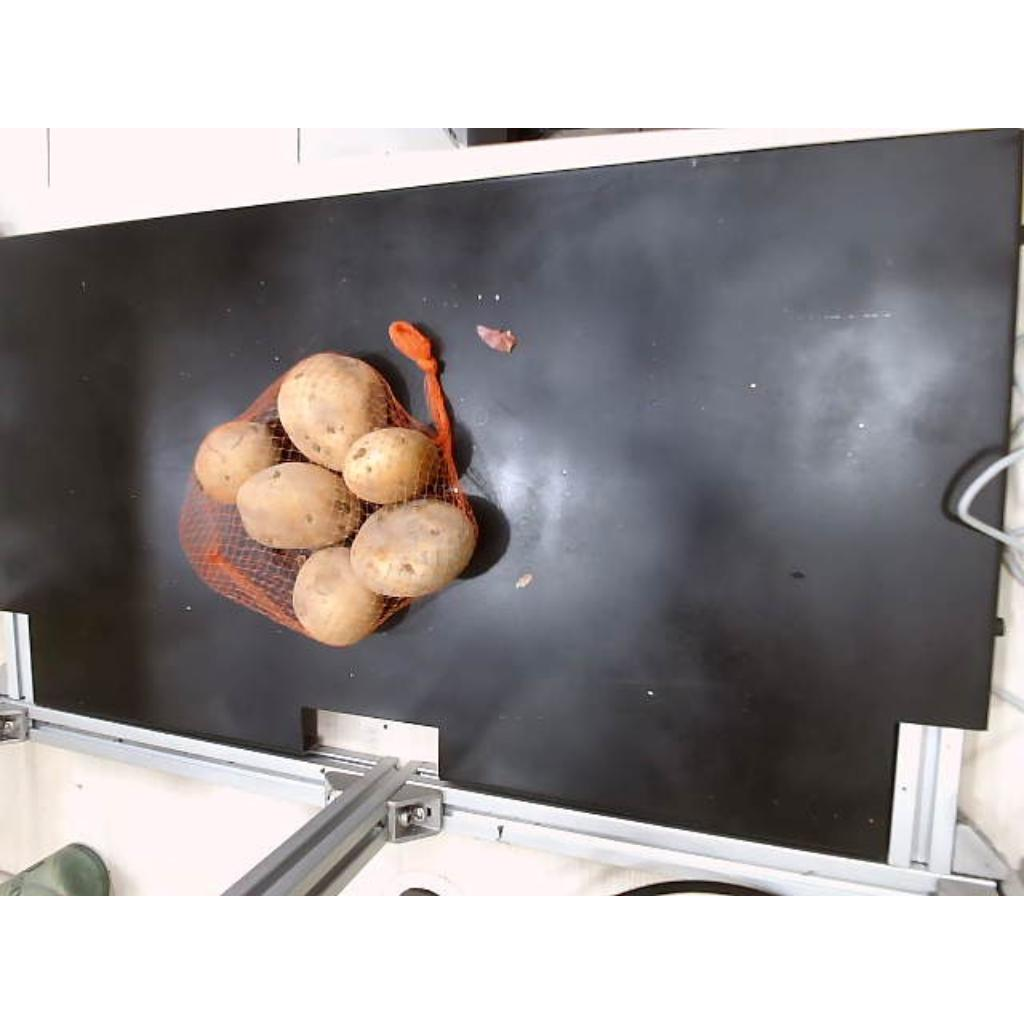potato: (278, 352, 388, 471), (350, 500, 476, 597), (238, 462, 360, 549), (294, 548, 384, 645), (194, 422, 280, 503), (344, 430, 438, 504)
